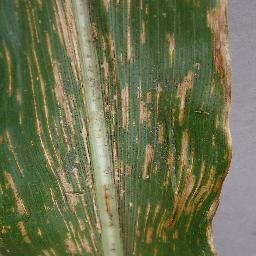Gray_Leaf_Spot: (97, 80, 234, 256), (40, 115, 102, 256), (35, 2, 98, 115), (0, 169, 43, 256), (99, 0, 128, 83), (207, 0, 235, 80), (130, 0, 145, 61), (1, 126, 20, 171), (28, 0, 36, 91), (1, 37, 12, 101), (165, 23, 179, 72), (184, 1, 211, 24), (184, 59, 201, 78), (139, 0, 154, 15), (15, 89, 29, 103), (34, 157, 47, 172), (150, 65, 159, 81), (18, 112, 30, 123), (12, 0, 21, 14), (30, 136, 38, 151), (24, 51, 29, 65), (174, 5, 179, 16), (160, 12, 169, 16), (20, 39, 21, 49)
